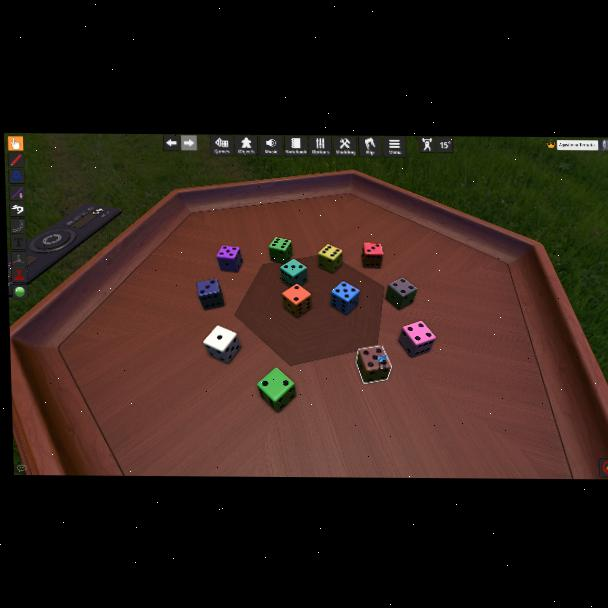d6: (257, 367, 296, 413), (203, 325, 241, 364), (355, 346, 390, 384), (398, 322, 434, 358), (384, 277, 417, 311), (281, 285, 311, 318), (330, 281, 358, 314), (197, 278, 225, 311), (280, 260, 306, 289), (216, 245, 242, 273), (317, 245, 342, 273), (268, 238, 293, 264), (362, 242, 383, 268)
